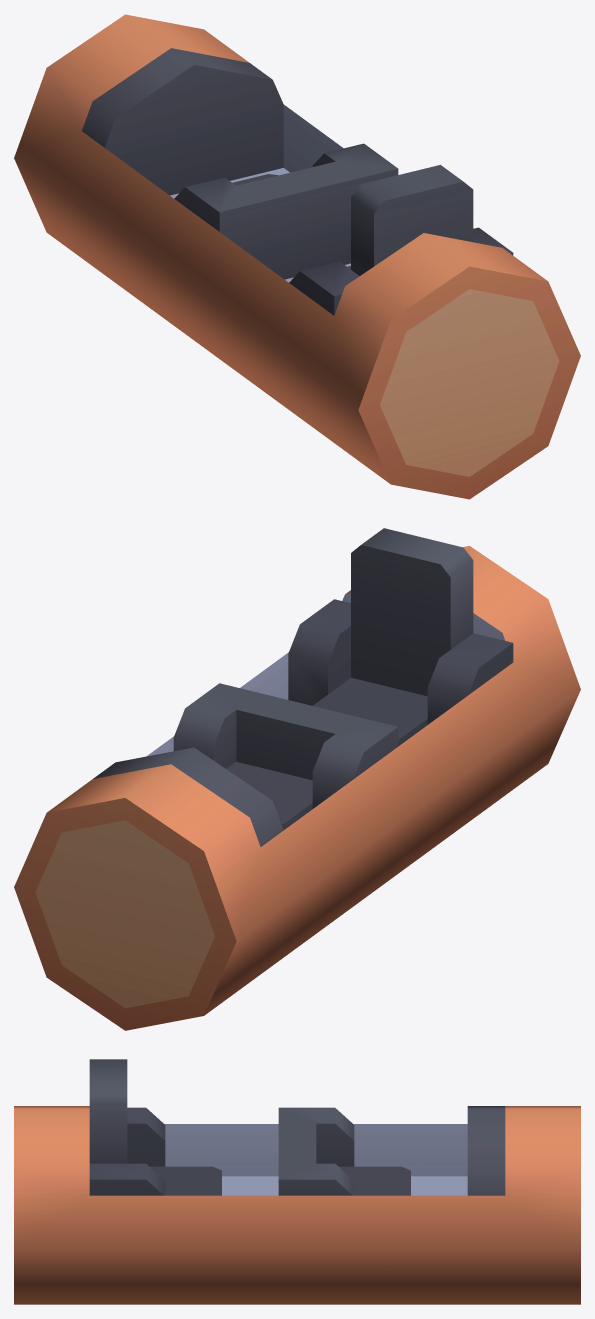
The model's file is train-log-flume.glb.
The picture shows the model from 3 angles, top to bottom: view 1: azimuth 30°, elevation 25°; view 2: azimuth 150°, elevation 25°; view 3: azimuth 270°, elevation 25°; orthographic projection. The views are drawn at different scales.
Parts seen in each view (by area): view 1: train-log-flume; view 2: train-log-flume; view 3: train-log-flume.
Part boxes in pixels (<box>): train-log-flume: <box>14,14,580,499</box>; train-log-flume: <box>14,528,580,1030</box>; train-log-flume: <box>14,1059,580,1304</box>.
Bounding box in the file's own units: 0.56 × 0.66 × 1.5.
Materials: 1 (1 with a texture image).
